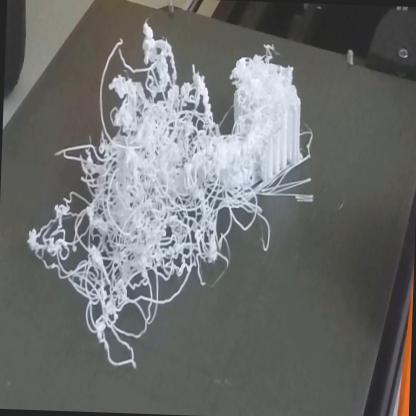fail: (24, 41, 295, 375)
